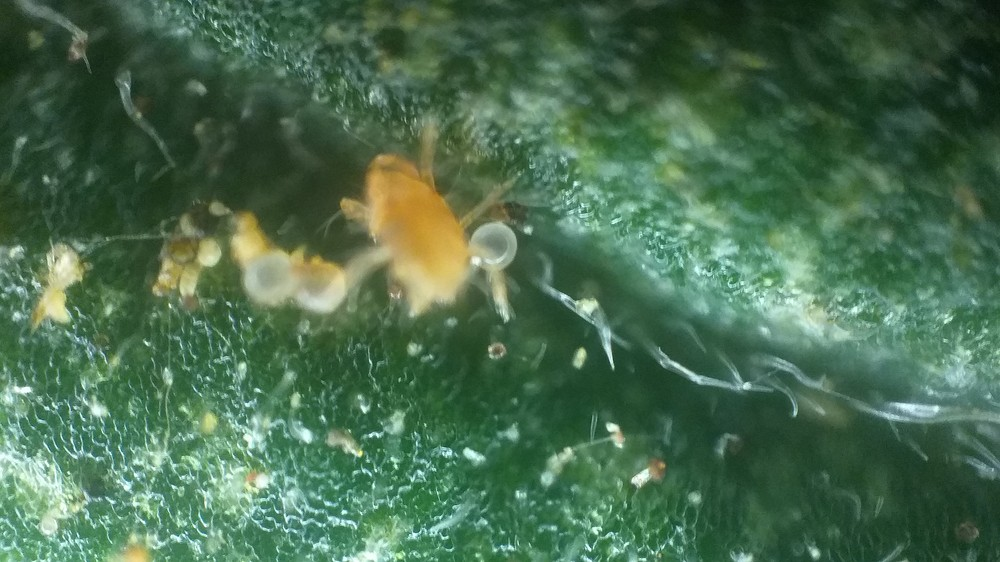Aracnido Rojo: (306, 120, 540, 338)
